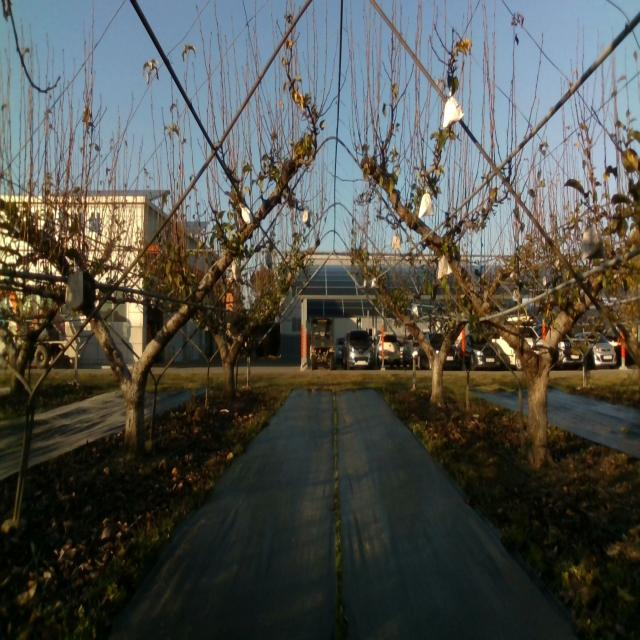pearbags: (582, 214, 604, 260), (443, 93, 464, 129), (419, 190, 434, 218), (438, 254, 452, 280), (240, 202, 253, 225)
